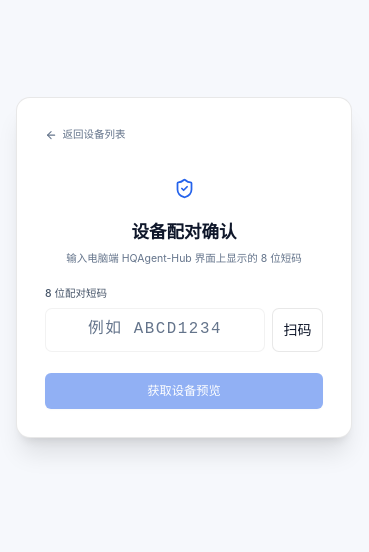
Test: RemotePairingPage › formats input to 8 uppercase alphanumeric characters and fetches preview
In the field labelled "8 位配对短码": (155, 330) top-left (45, 308), bottom-right (265, 352), type "abcd-1234"
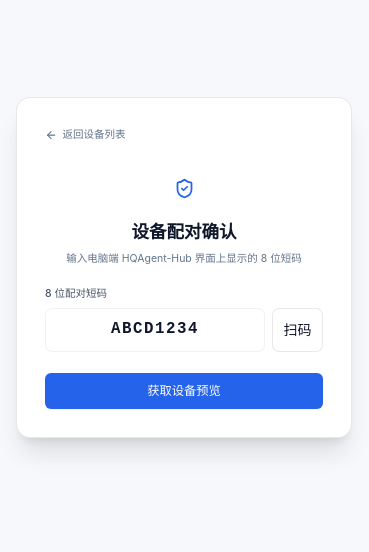
Expected: the field labelled "8 位配对短码" holds "ABCD1234", top-left (45, 308), bottom-right (265, 352)
Click the button with test id "preview-btn": (184, 390) top-left (45, 372), bottom-right (323, 408)
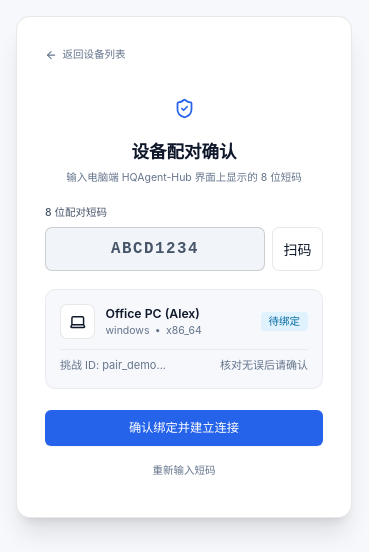
Expected: the text "Office PC (Alex)" is shown, top-left (106, 306), bottom-right (200, 321)
Expected: the text "windows" is shown, top-left (106, 324), bottom-right (150, 338)
Expected: the text "x86_64" is shown, top-left (166, 324), bottom-right (202, 338)
